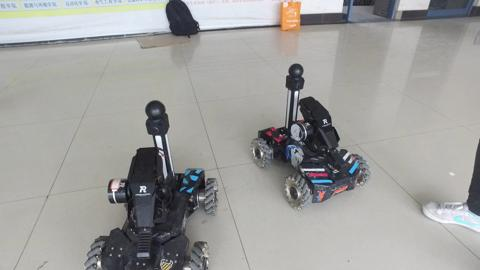bag: (158, 1, 203, 39)
chariot: (85, 98, 224, 270), (246, 63, 375, 213)
